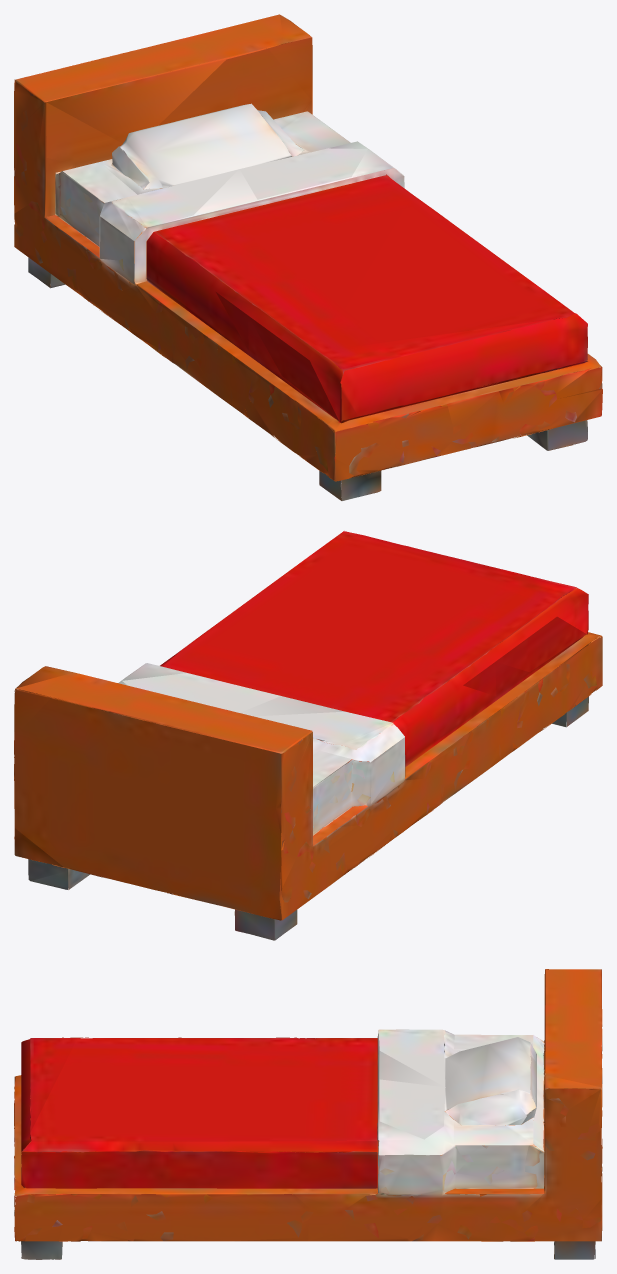
File: bedTrellis.glb
The picture shows the model from 3 angles, top to bottom: view 1: azimuth 30°, elevation 25°; view 2: azimuth 150°, elevation 25°; view 3: azimuth 270°, elevation 25°; orthographic projection. The views are drawn at different scales.
Visible parts, largest first — view 1: bed_lowpoly; view 2: bed_lowpoly; view 3: bed_lowpoly.
Boxes of the visible parts, x1,y1,x2,y2 form: bed_lowpoly: (14, 14, 602, 500); bed_lowpoly: (14, 531, 602, 940); bed_lowpoly: (14, 969, 602, 1259).
Bounding box in the file's own units: 0.9198 × 0.6267 × 1.89.
Materials: 1 (1 with a texture image).
